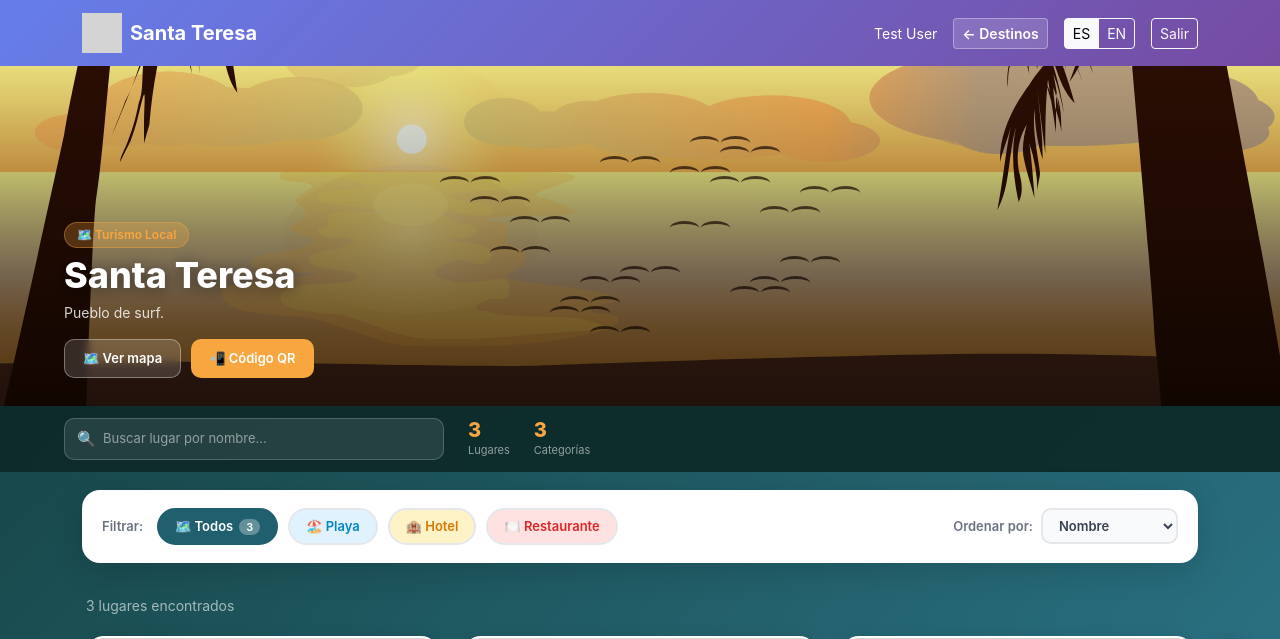
Test: PlacesPage › map modal › opens the map modal when clicking "Ver mapa" and closes via the close button
Click the button "🗺️ Ver mapa" at (123,358), box [64,338,181,378]
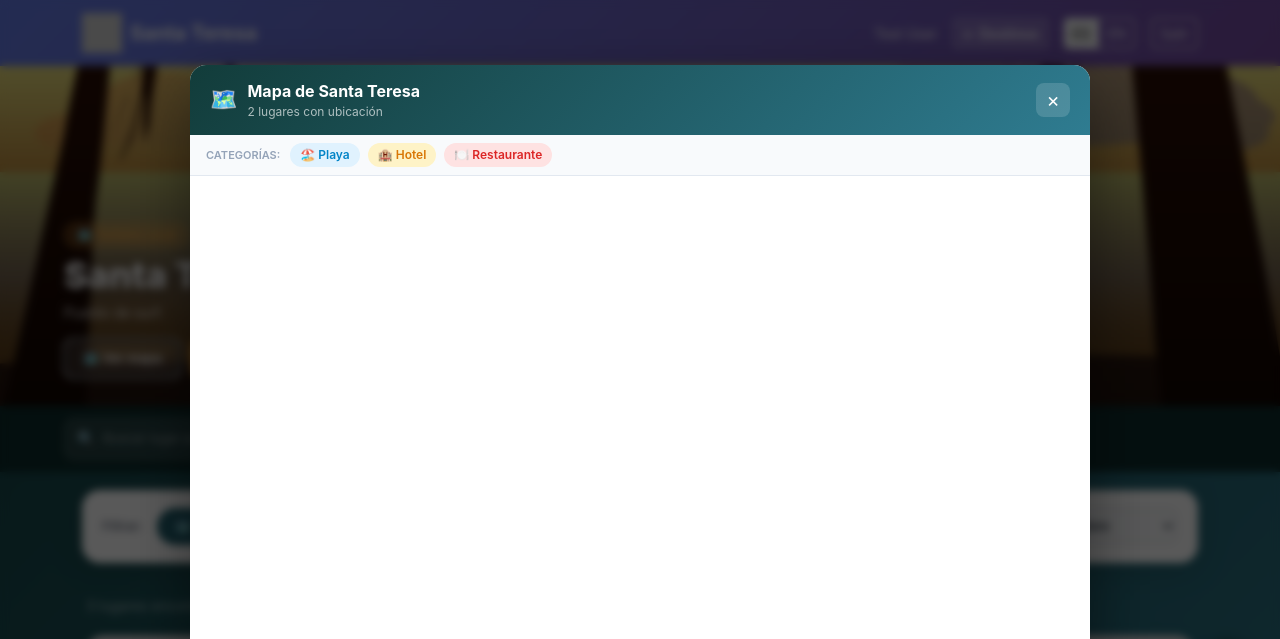
Expected: the text "Mapa de Santa Teresa" is shown, [248,79,420,103]
Expected: the text "2 lugares con ubicación" is shown, [248,104,383,119]
Click the button "×" at (1053,100), box [1036,83,1070,117]
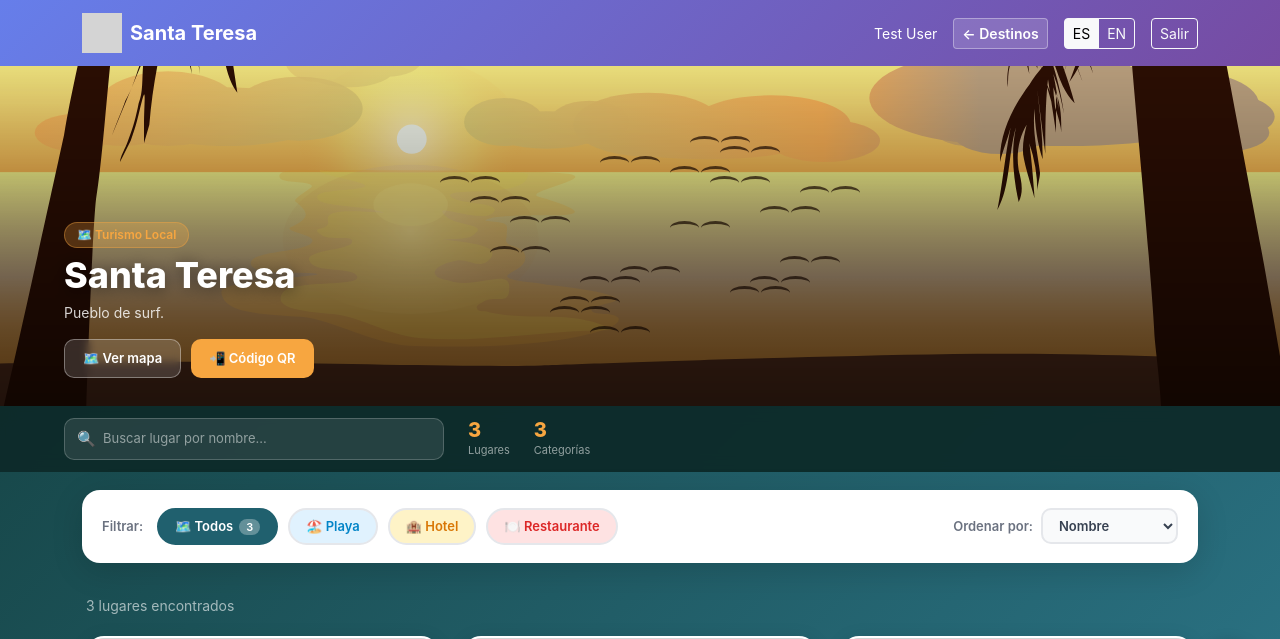
Expected: the text "Mapa de Santa Teresa" is gone
